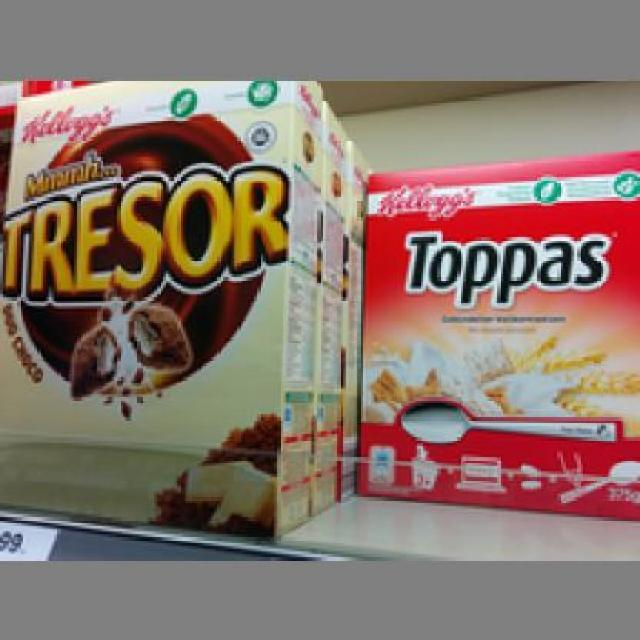Cereal: (0, 77, 320, 550), (354, 146, 637, 523)
